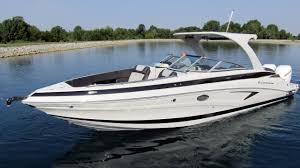boat: (21, 10, 299, 134)
